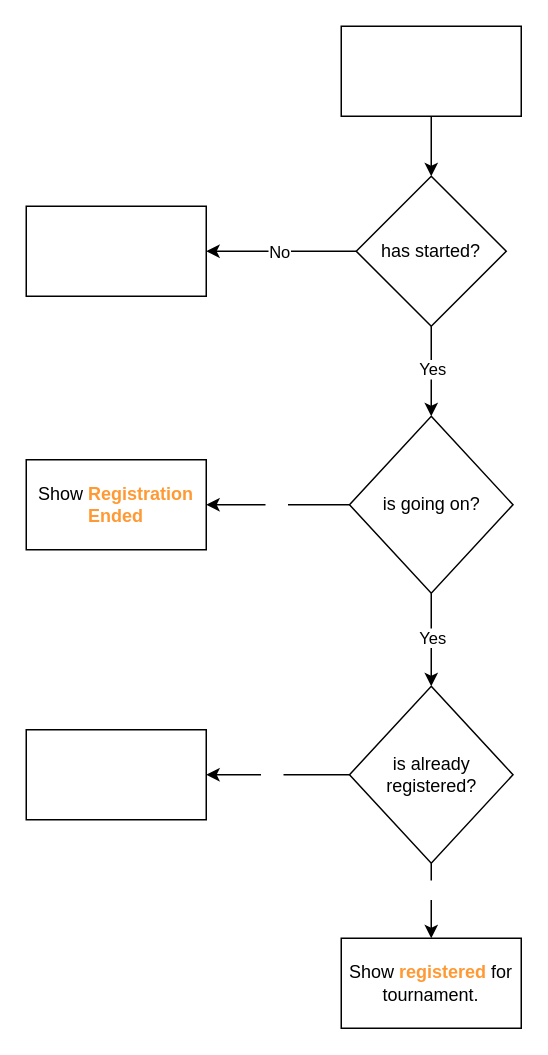
Image size: 548x1055. Some labels were removed from this diagram. Each missing label, with the centre of its shape:
"Registration" belongs at pixel 430 70.
"Show Registration Button" belongs at pixel 115 774.
"Show Registration Not started" belongs at pixel 115 250.
